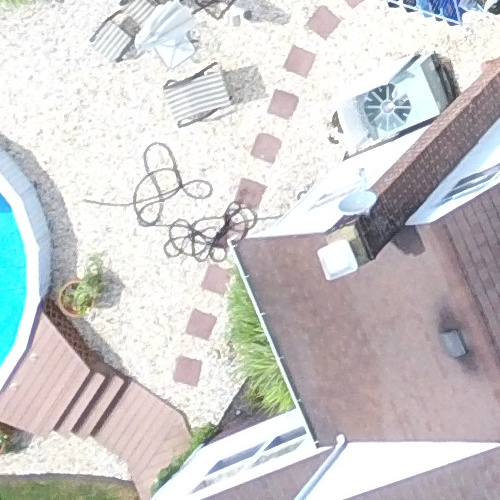flower pot: (51, 276, 109, 321)
